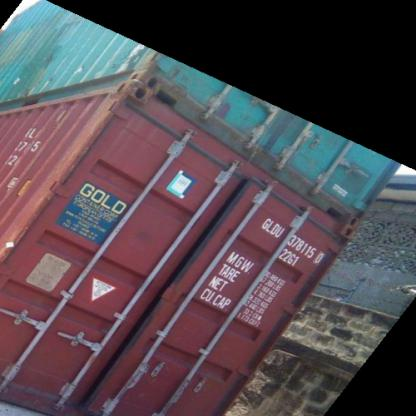Damage: (51, 79, 129, 199)
